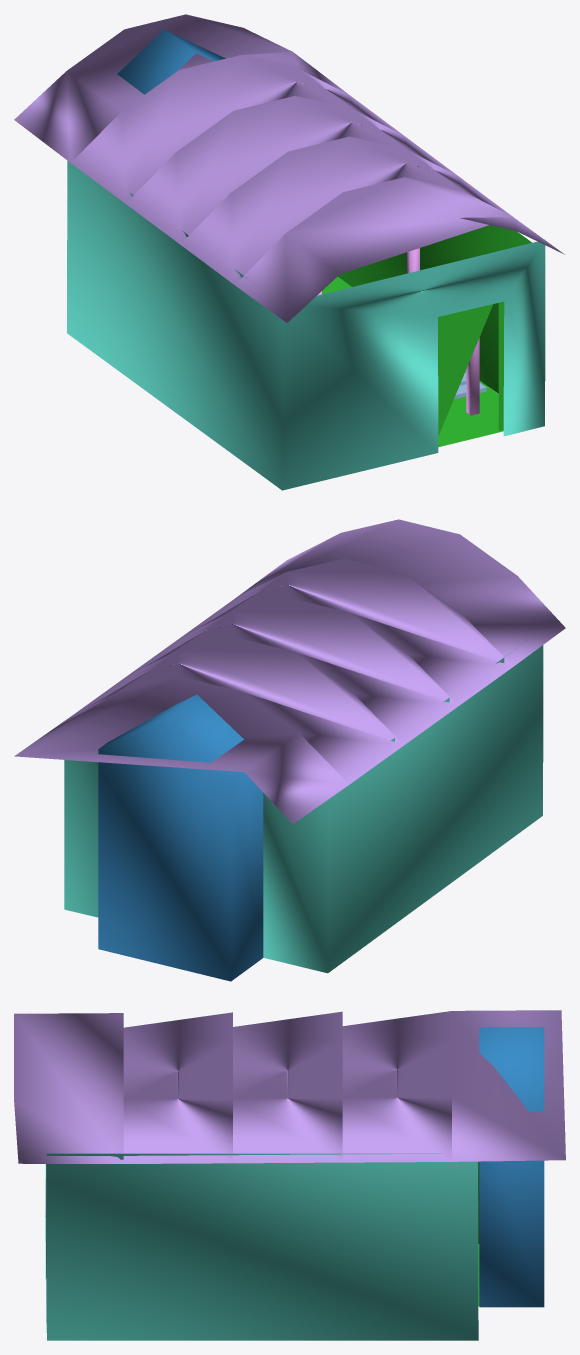
File: mithraeum-3ds.glb
The picture shows the model from 3 angles, top to bottom: view 1: azimuth 30°, elevation 25°; view 2: azimuth 150°, elevation 25°; view 3: azimuth 270°, elevation 25°; orthographic projection.
Visible parts, largest first — view 1: Plane001, Cylinder005, Mithraeum_In, Plane002, Pillar_Right_Nave; view 2: Cylinder005, Plane001, Plane002; view 3: Plane001, Cylinder005, Plane002.
Part boxes in pixels (x1,y1,x2,y2): Plane001: (67, 161, 545, 490); Cylinder005: (14, 14, 564, 322); Mithraeum_In: (322, 225, 531, 447); Plane002: (117, 29, 225, 94); Pillar_Right_Nave: (466, 338, 479, 415); Cylinder005: (14, 519, 565, 823); Plane001: (64, 644, 543, 973); Plane002: (98, 694, 263, 981); Plane001: (45, 1153, 478, 1340); Cylinder005: (14, 1010, 565, 1163); Plane002: (479, 1027, 544, 1307).
Bounding box in the file's own units: 281 × 240 × 480.
